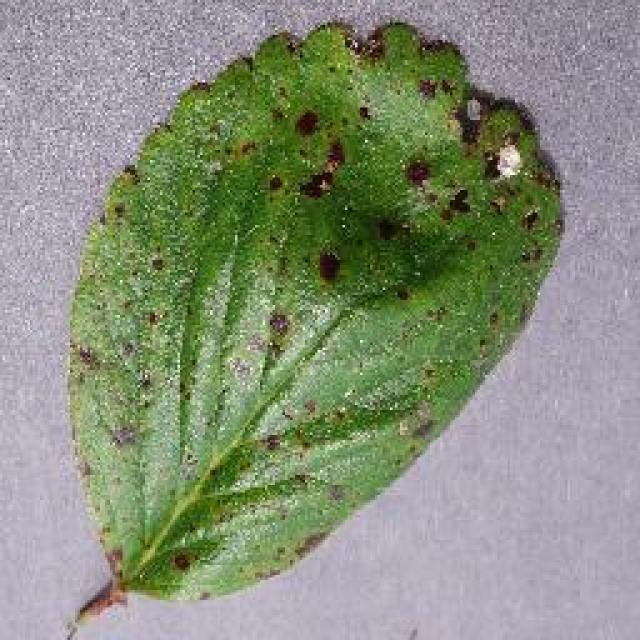Strawberry___Leaf_scorch: (50, 0, 580, 638)
